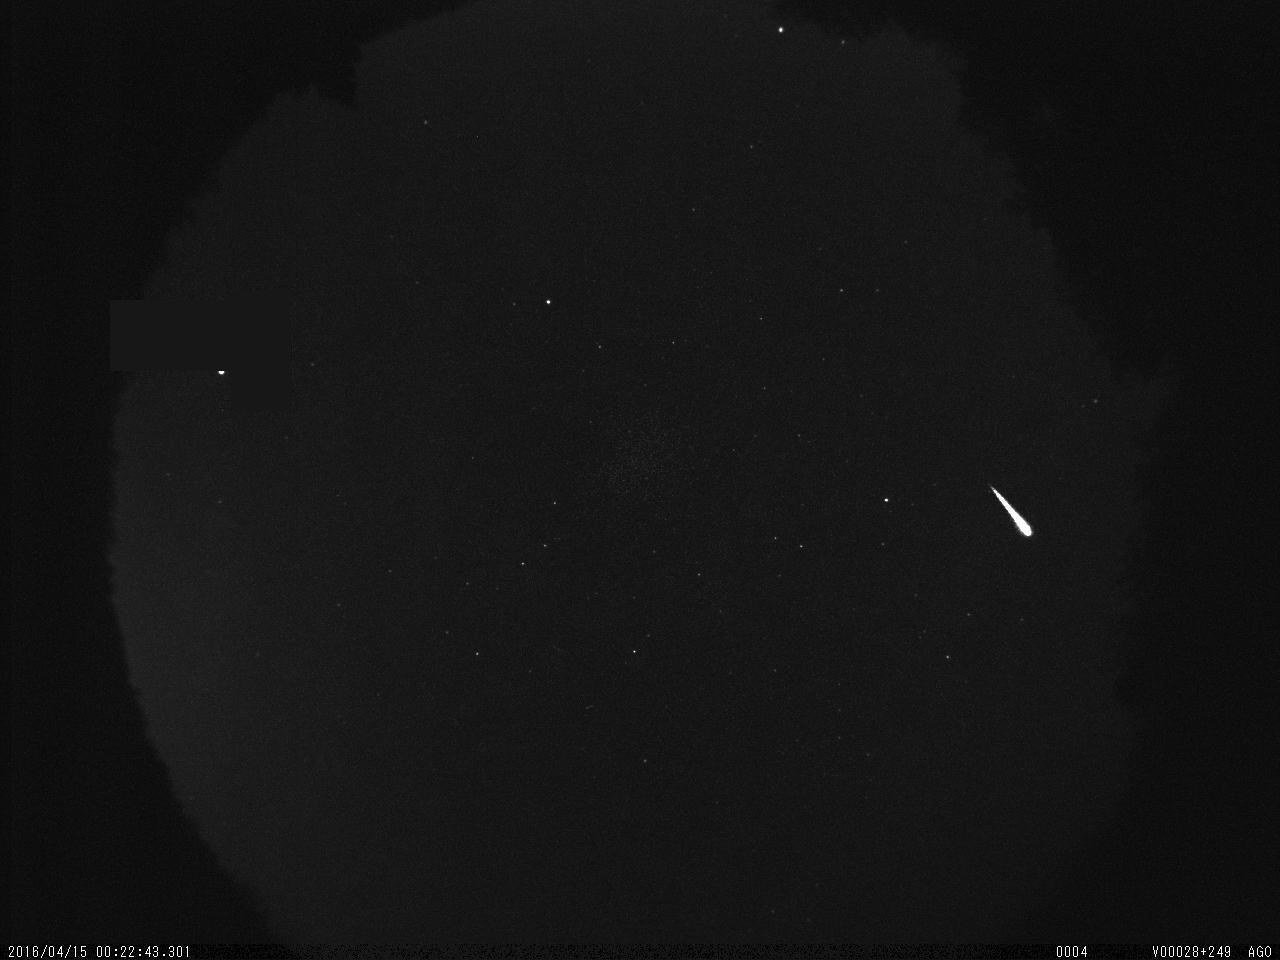meteor: (961, 457, 1063, 570)
